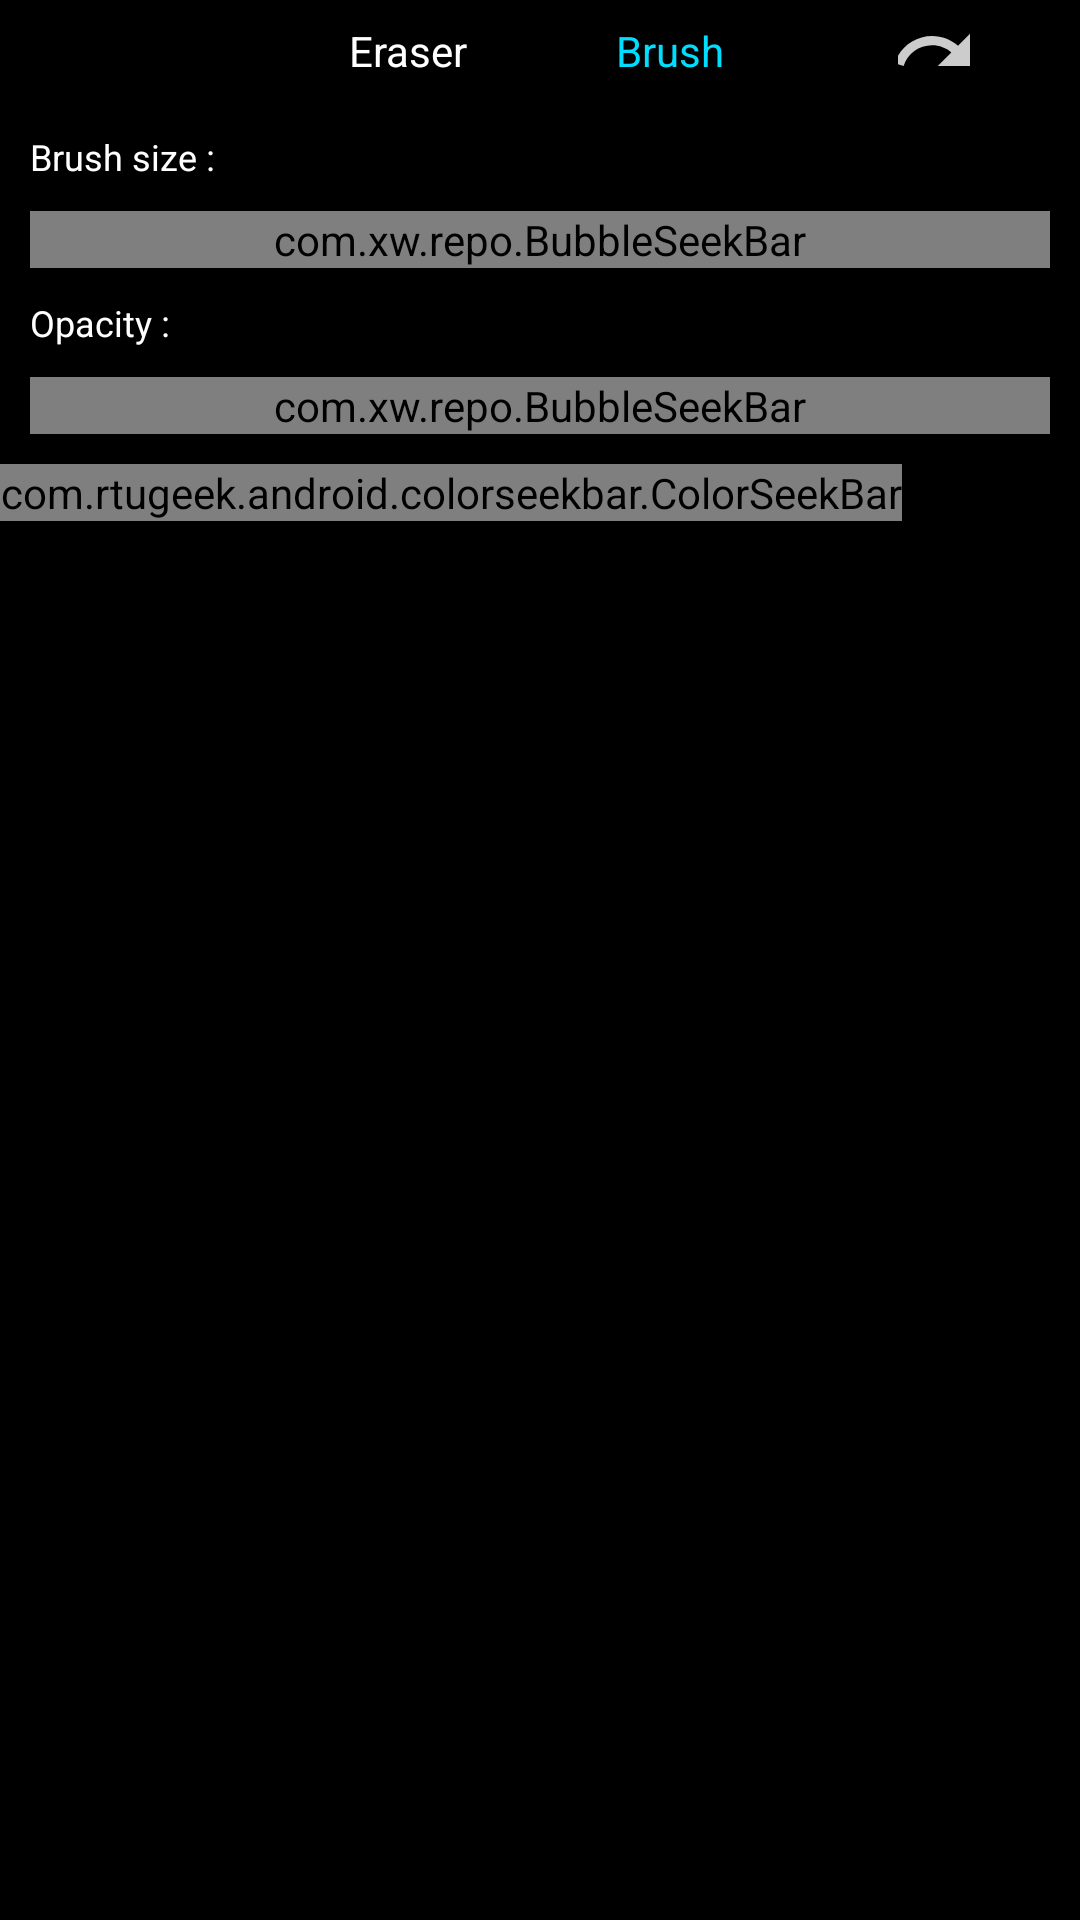

Screen size 1080px x 1920px. Icon name, then its box in pixels as [x1,y1,x2,y2]:
redo: [898,34,970,66]
